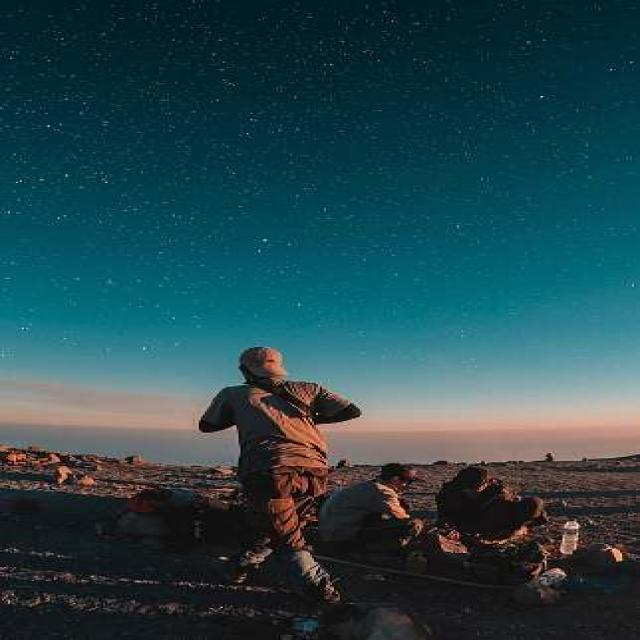running: (194, 346, 373, 602)
